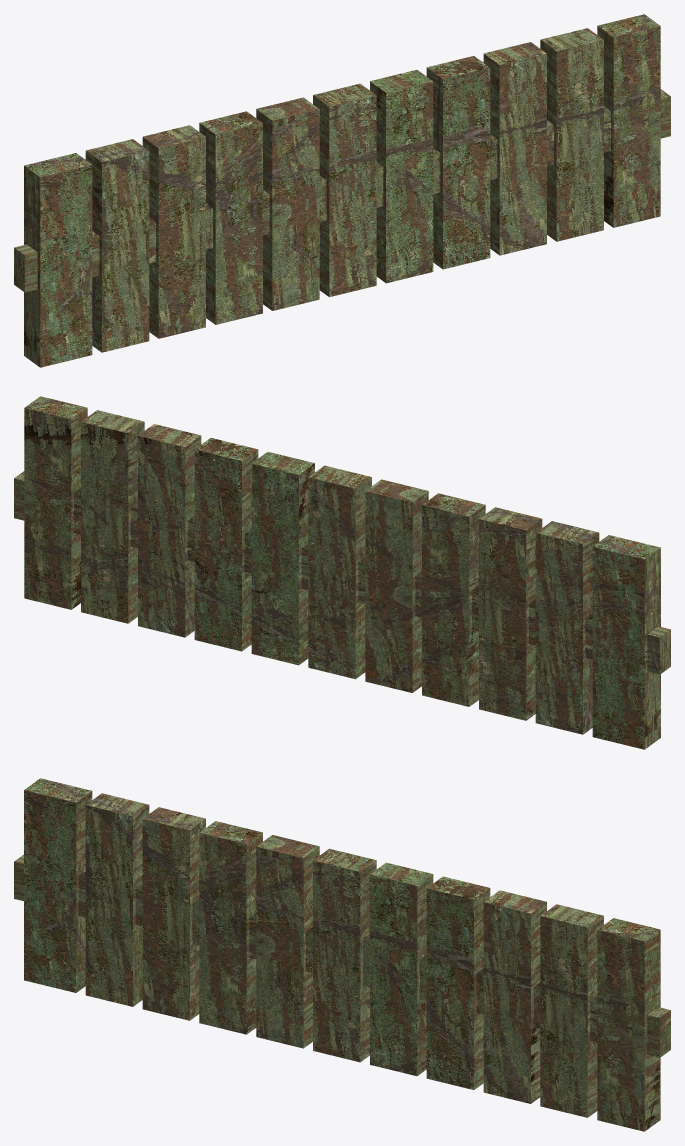
File: VallaLlargaBona.fbx
The picture shows the model from 3 angles, top to bottom: view 1: azimuth 30°, elevation 25°; view 2: azimuth 150°, elevation 25°; view 3: azimuth 330°, elevation 25°; orthographic projection.
Visible parts, largest first — view 1: Cube; view 2: Cube; view 3: Cube.
Part boxes in pixels (<box>): Cube: <box>14,14,670,367</box>; Cube: <box>14,396,670,749</box>; Cube: <box>14,778,670,1131</box>.
Bounding box in the file's own units: 1020 × 287 × 44.27.
